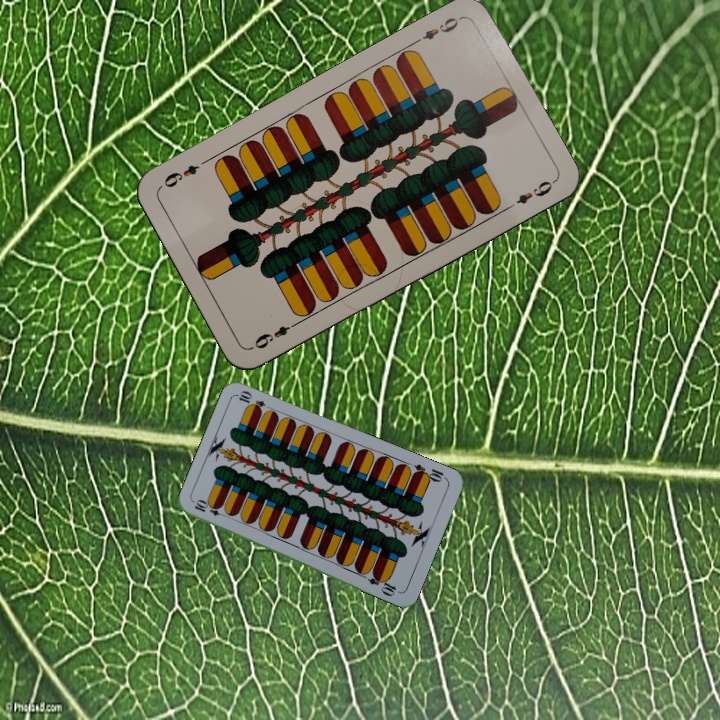E10: (409, 460, 449, 485), (190, 497, 230, 520)
E9: (410, 12, 465, 47), (250, 317, 303, 352)
